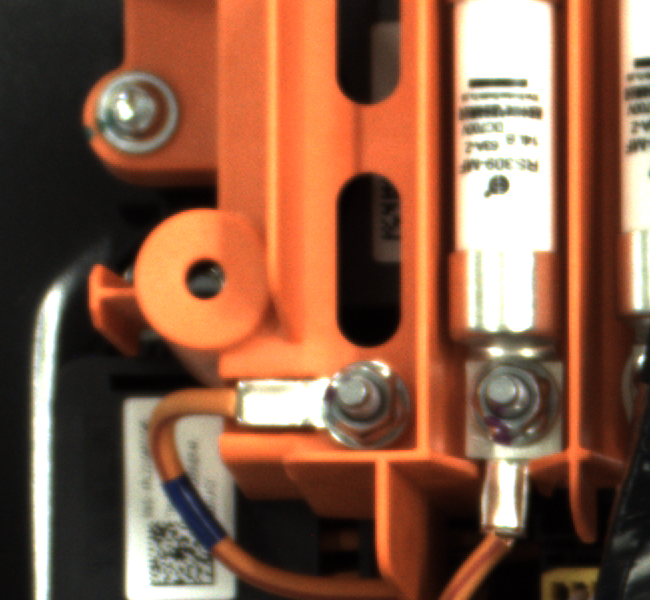screw_m: (87, 77, 206, 162)
screw_s: (468, 349, 566, 445), (309, 358, 402, 448)
